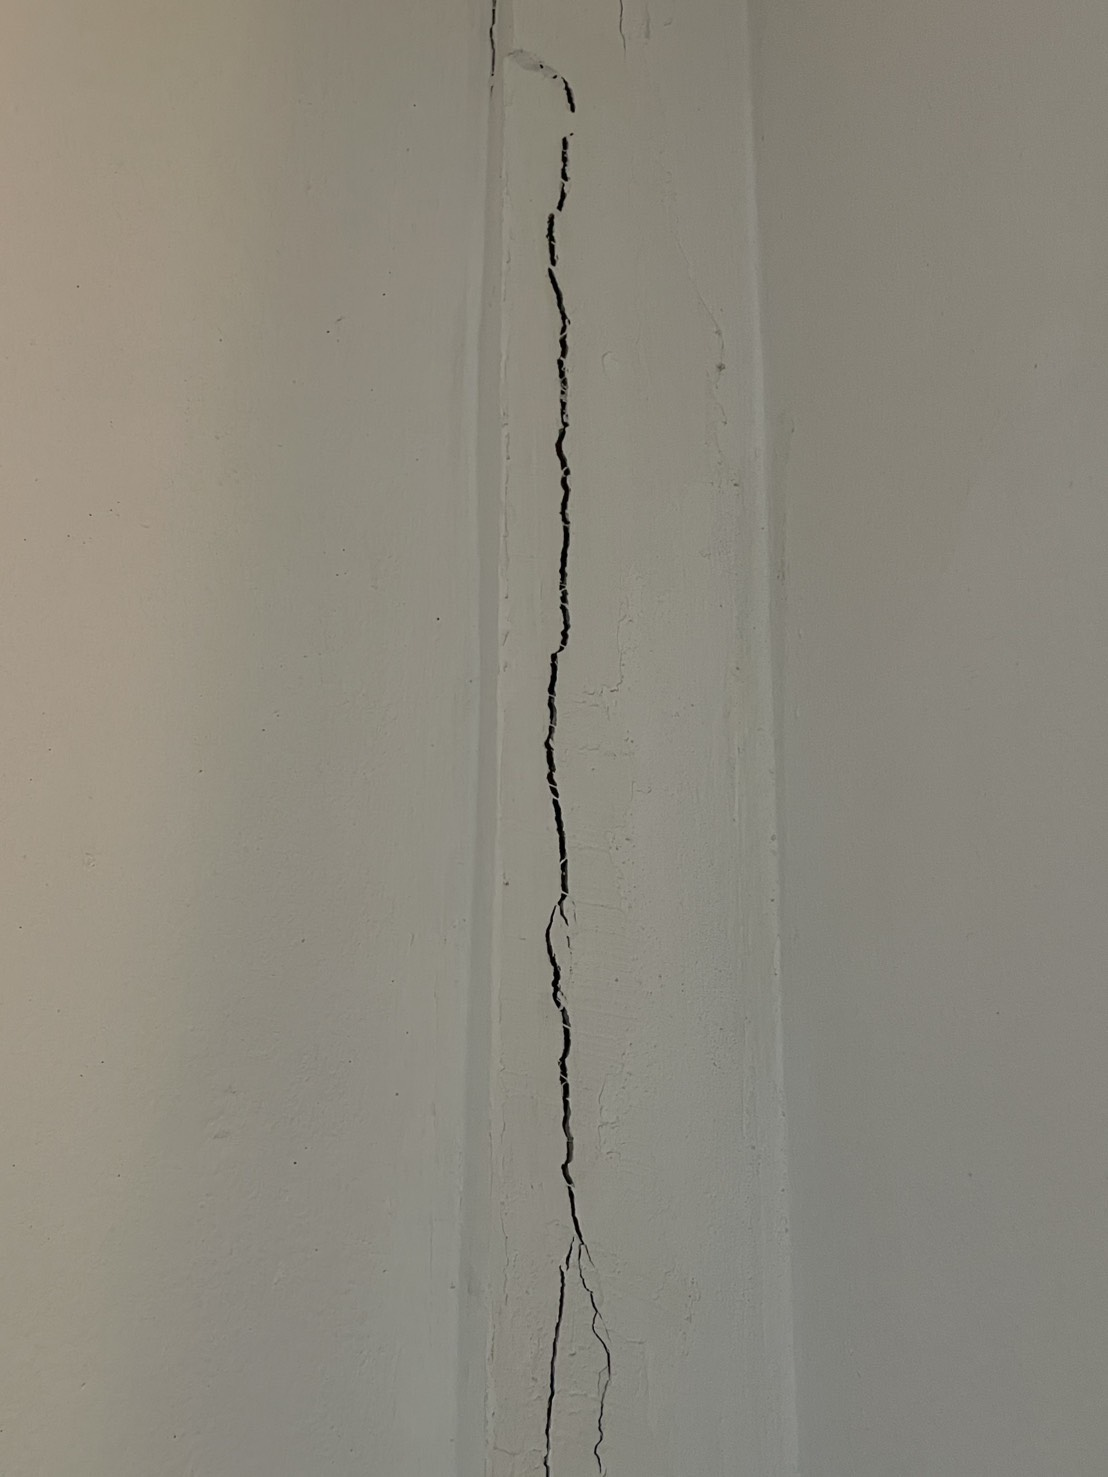Medium: (474, 68, 672, 1243)
